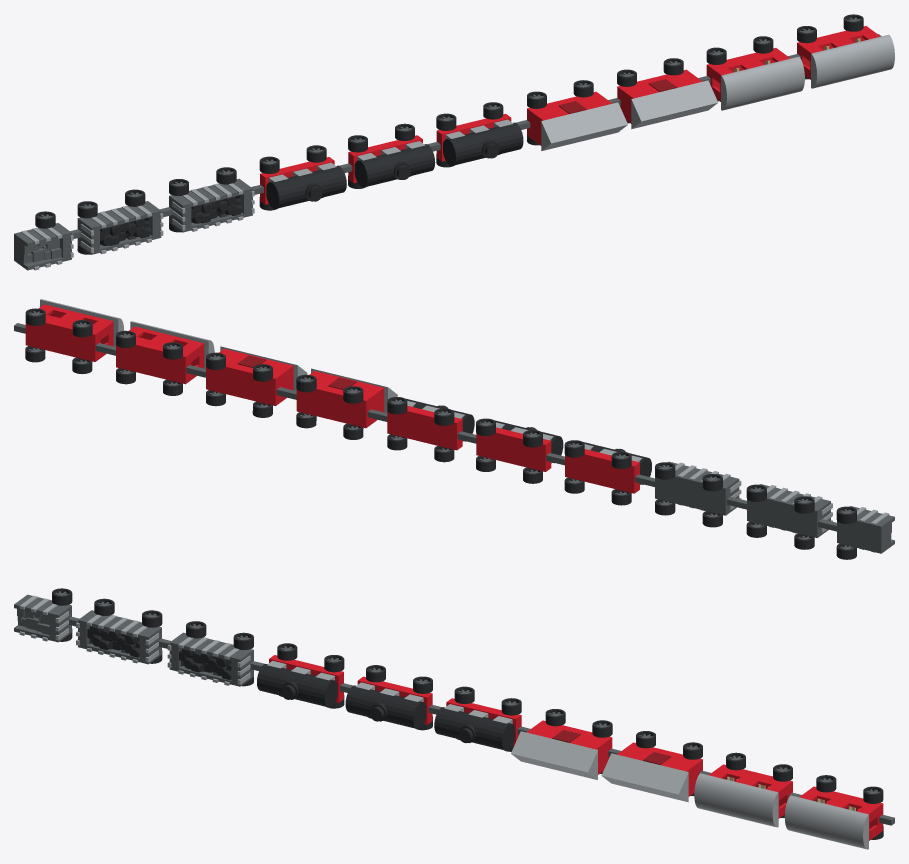
The model's file is tinker.obj.
3 renders of one model, top to bottom at view 1: azimuth 30°, elevation 25°; view 2: azimuth 150°, elevation 25°; view 3: azimuth 330°, elevation 25°, orthographic.
Visible parts, largest first — view 1: group_0_2829873, group_0_10988977, group_0_6383466, group_0_15277357; view 2: group_0_15277357, group_0_2829873, group_0_6383466, group_0_10988977; view 3: group_0_2829873, group_0_10988977, group_0_15277357, group_0_6383466.
Boxes of the visible parts, x1,y1,x2,y2 form: group_0_2829873: (35,14,863,254); group_0_10988977: (21,34,894,270); group_0_6383466: (14,17,881,270); group_0_15277357: (260,26,880,204); group_0_15277357: (25,304,639,493); group_0_2829873: (25,308,856,559); group_0_6383466: (14,311,894,553); group_0_10988977: (40,299,889,552); group_0_2829873: (52,588,883,839); group_0_10988977: (19,595,868,849); group_0_15277357: (269,655,883,840); group_0_6383466: (14,591,894,825).
Size of the model in its own units: 998 by 50.35 by 69.26.
